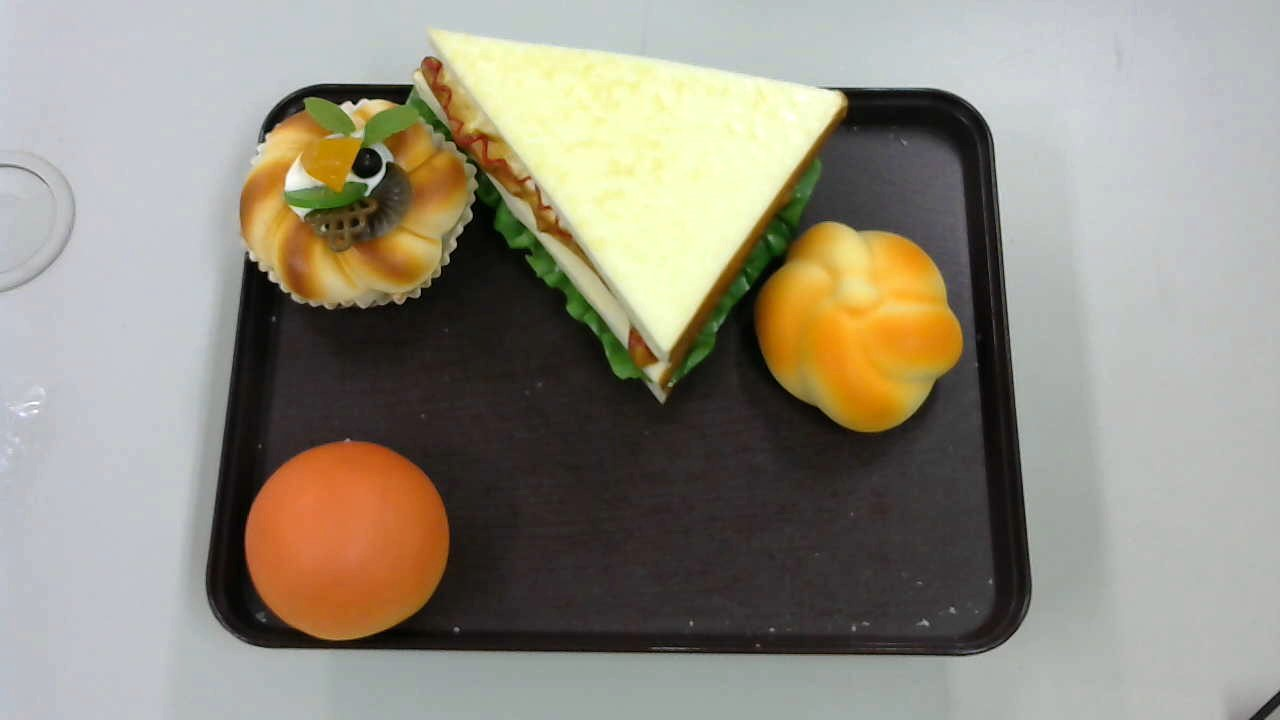bun: (245, 438, 450, 643)
fruit tart: (236, 98, 477, 310)
sandwich: (405, 26, 848, 400)
twist bread: (756, 219, 965, 436)
